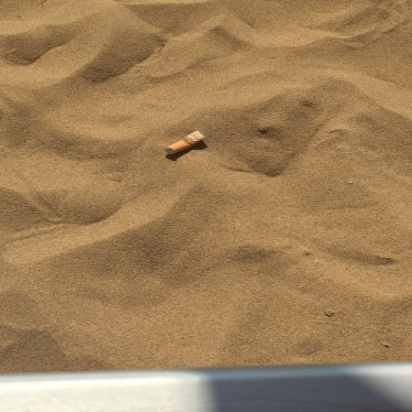cigarette: (157, 126, 211, 162)
